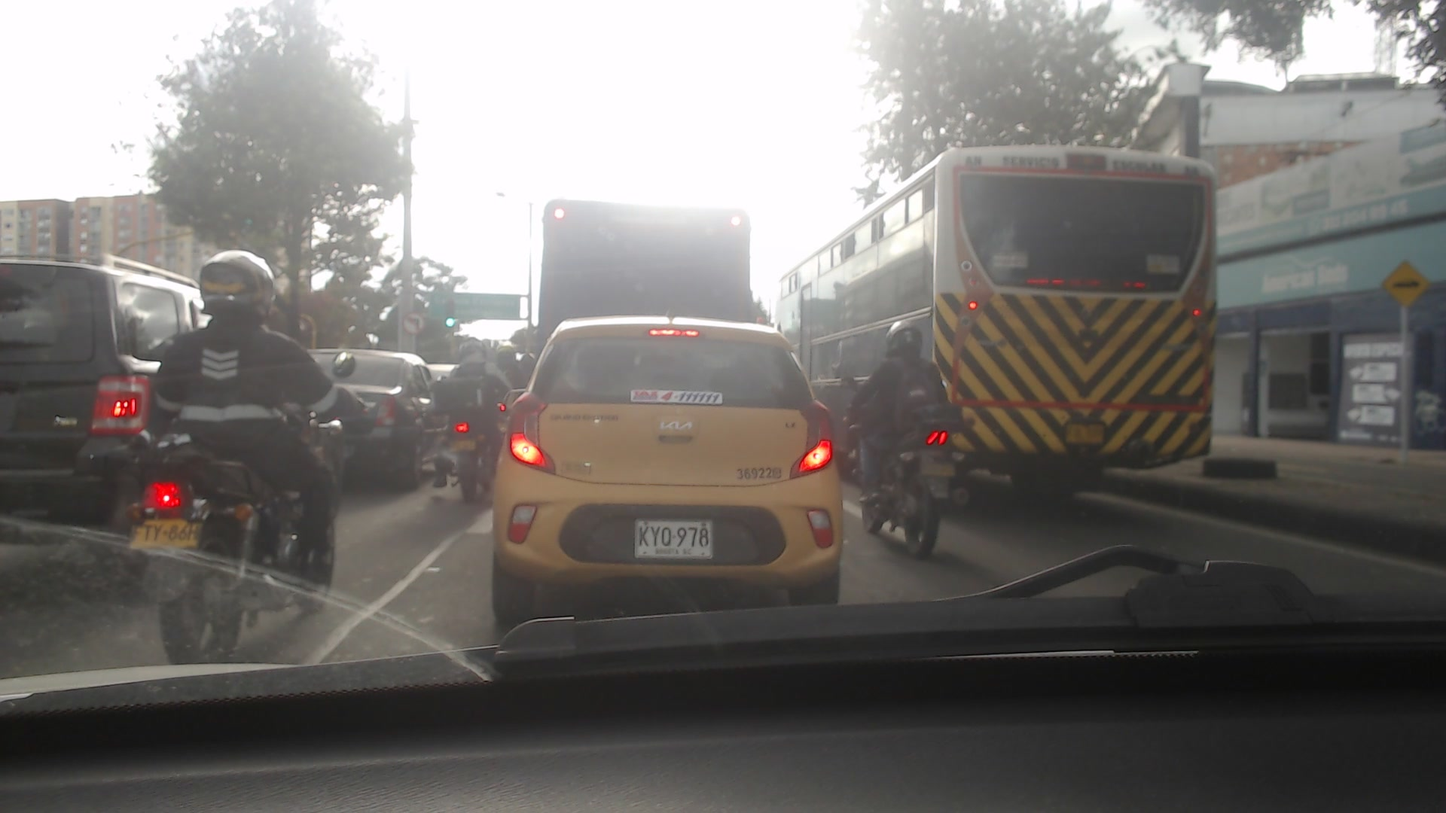bus: (779, 145, 1221, 511)
car: (494, 314, 846, 618), (0, 261, 206, 548), (306, 344, 438, 481)
person: (133, 247, 337, 559), (845, 319, 968, 508), (434, 333, 505, 461)
truck: (531, 197, 761, 328)
